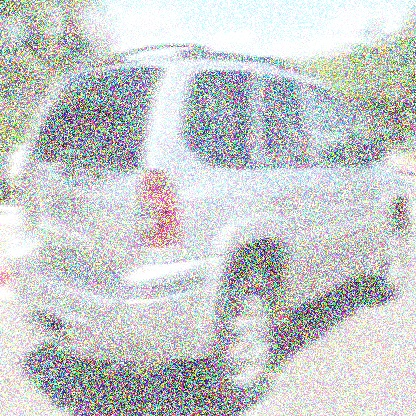Vehicle: (10, 41, 413, 404)
